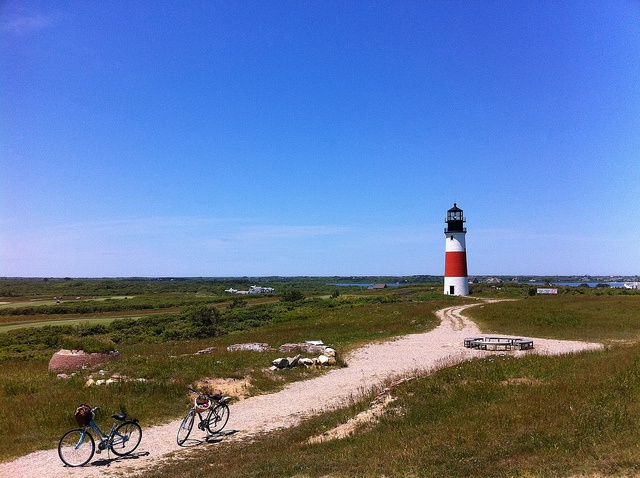non-vehicle: (58, 403, 143, 467), (177, 387, 231, 446)
